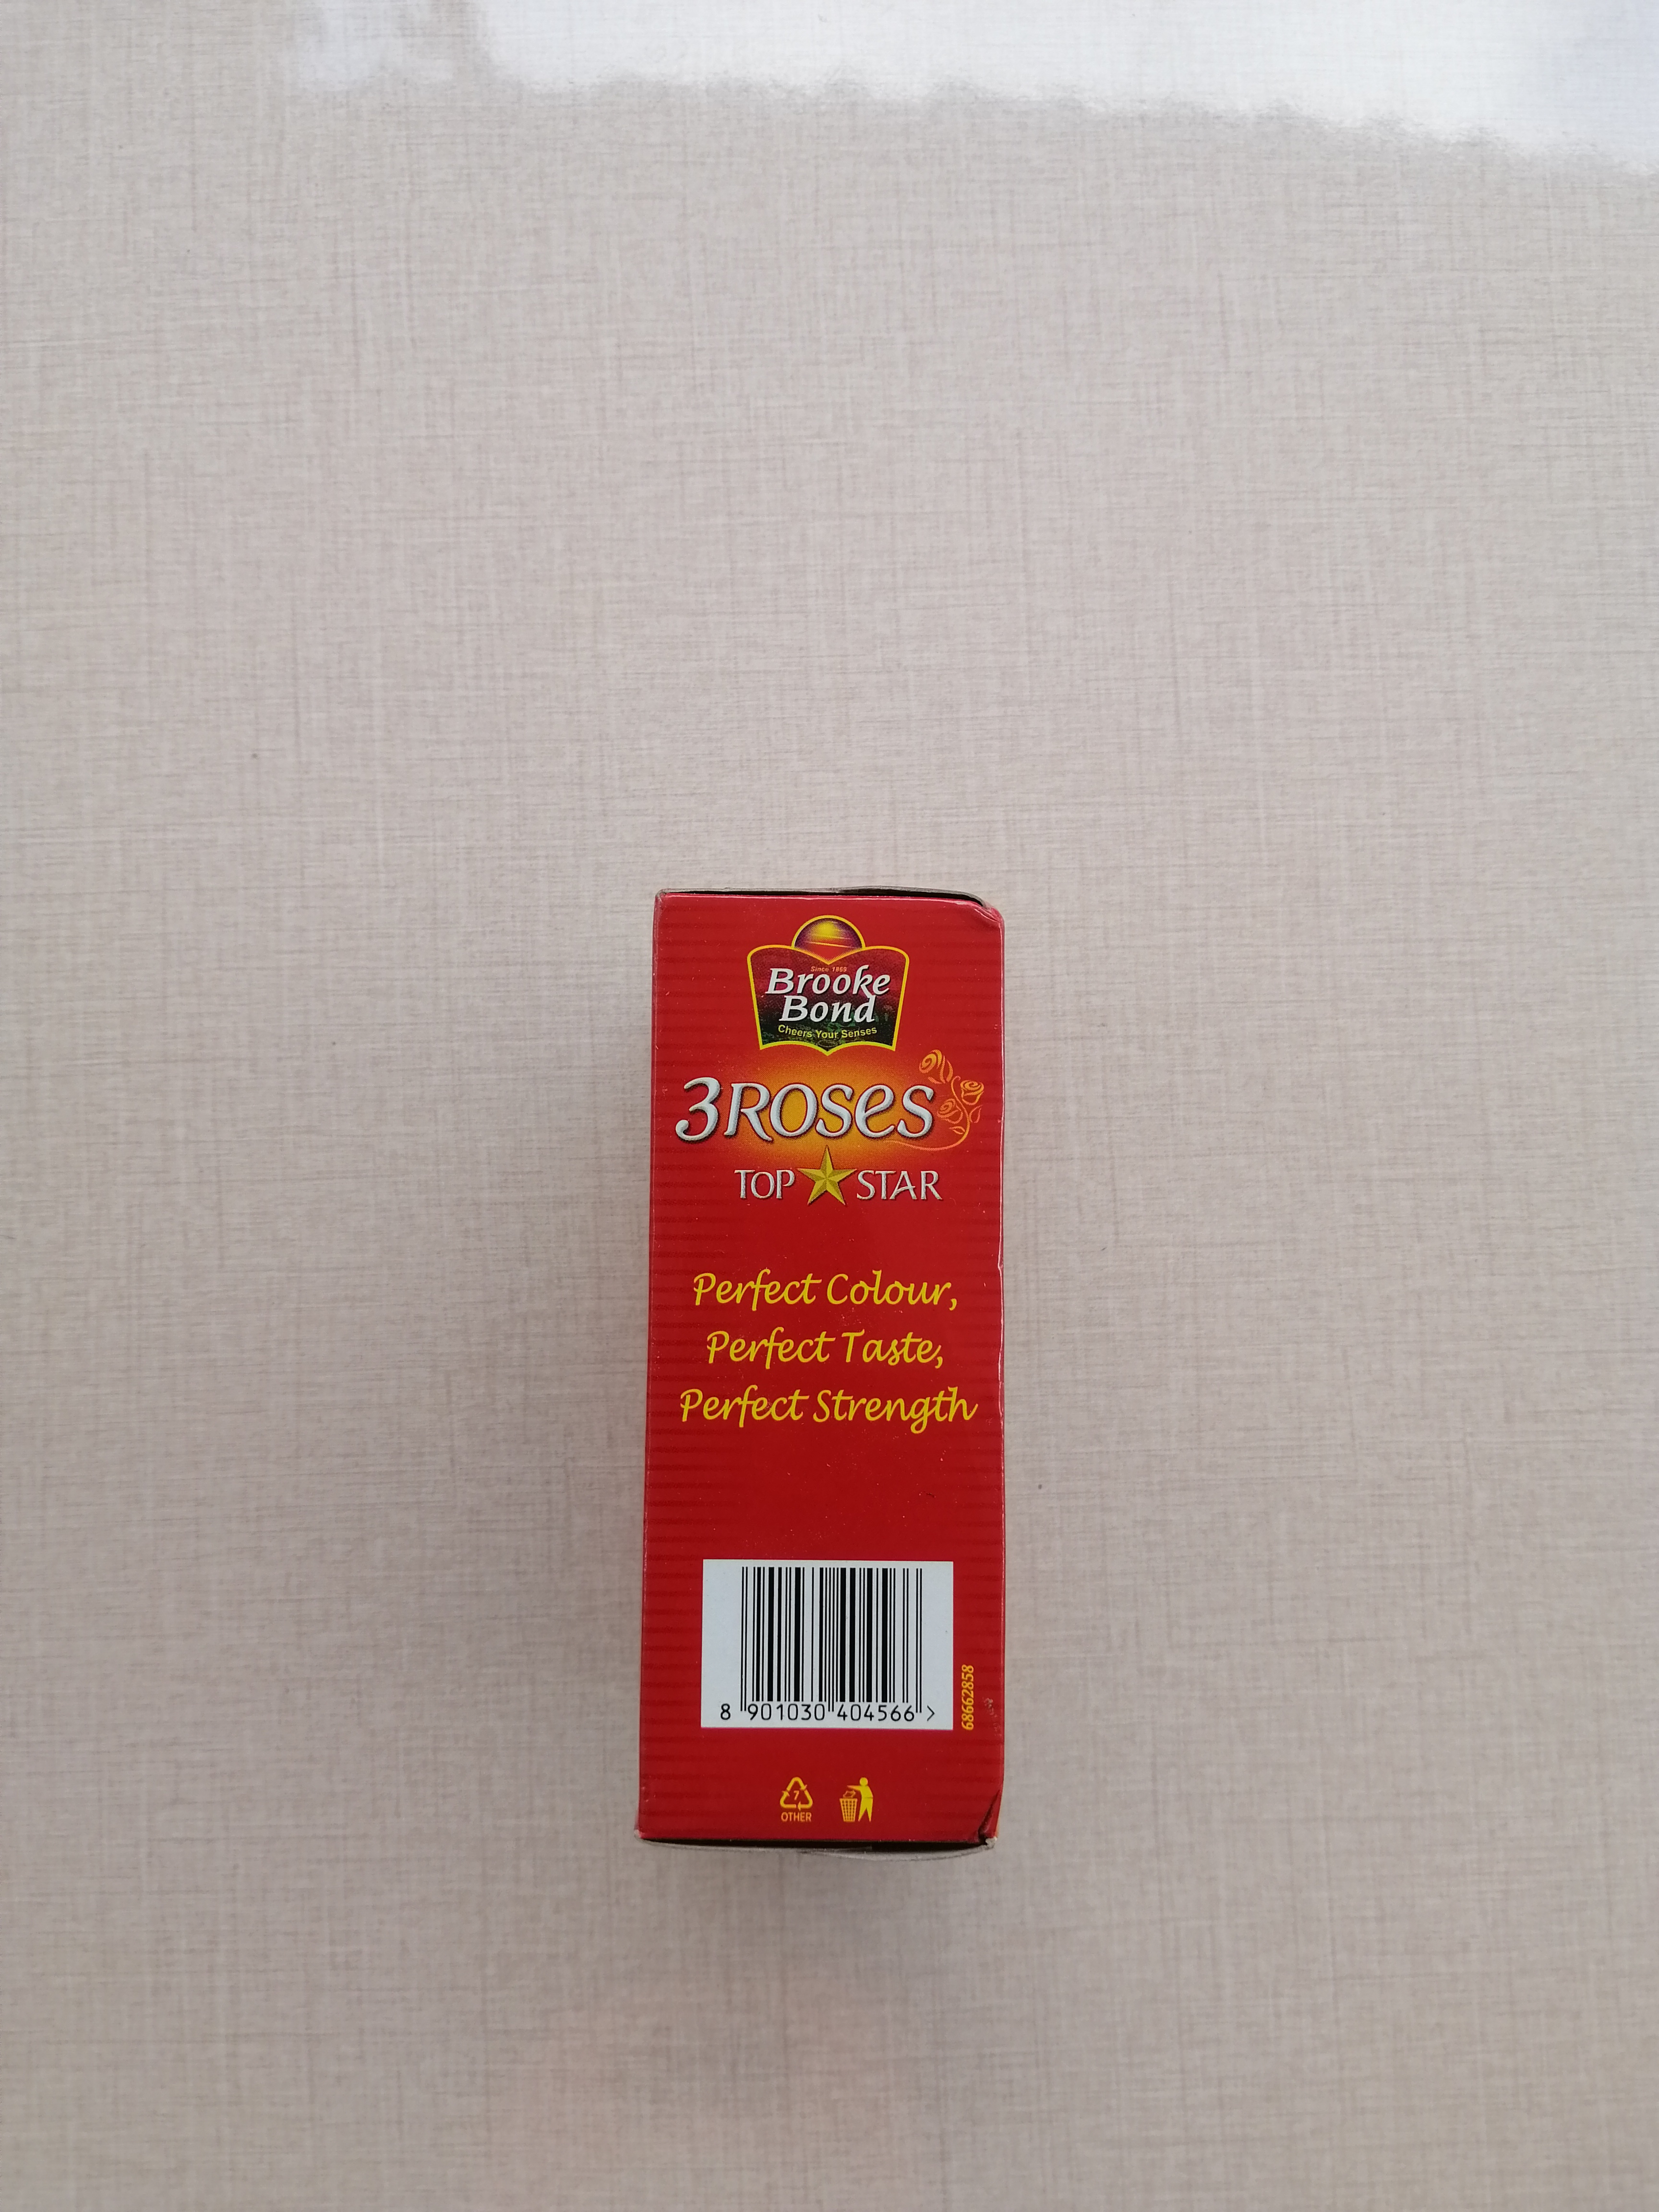3roses_top_star: (643, 887, 1009, 1858)
